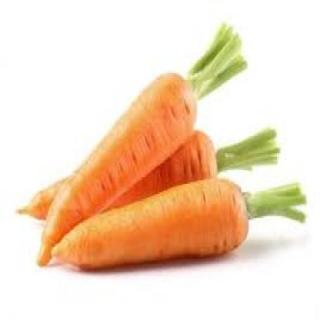Wortel: (37, 71, 198, 262), (51, 176, 250, 268)
